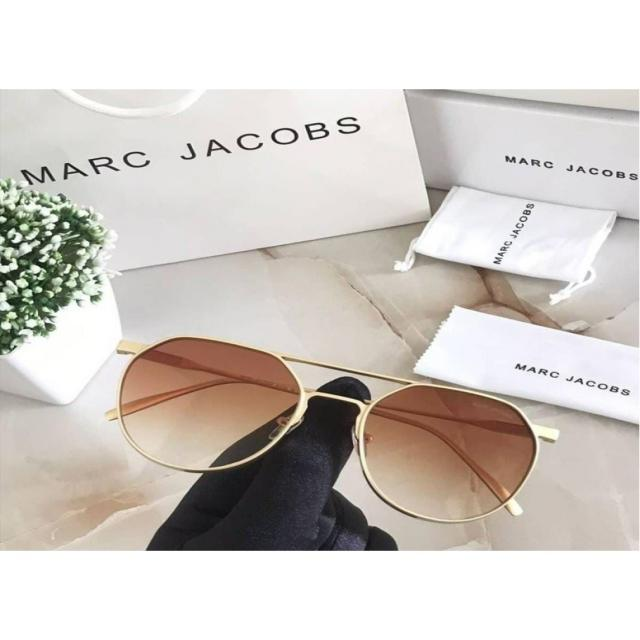sunglasses: (103, 330, 554, 527)
